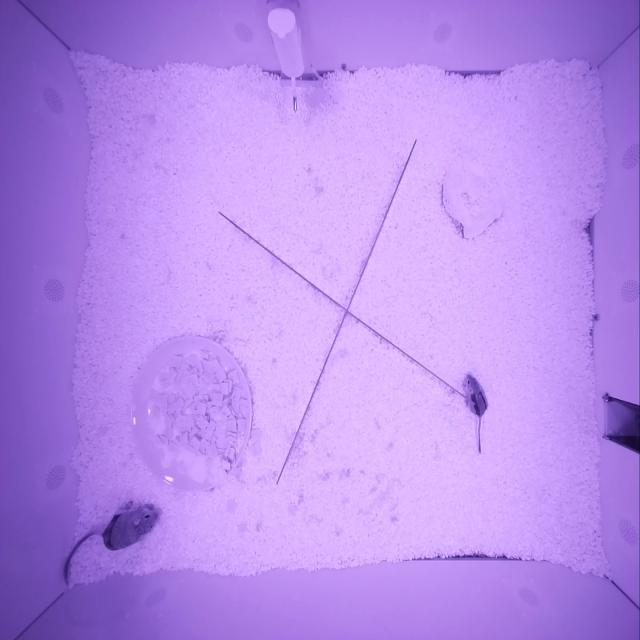adult_back: (102, 501, 159, 551)
pup_v_stripe: (464, 373, 488, 418)
